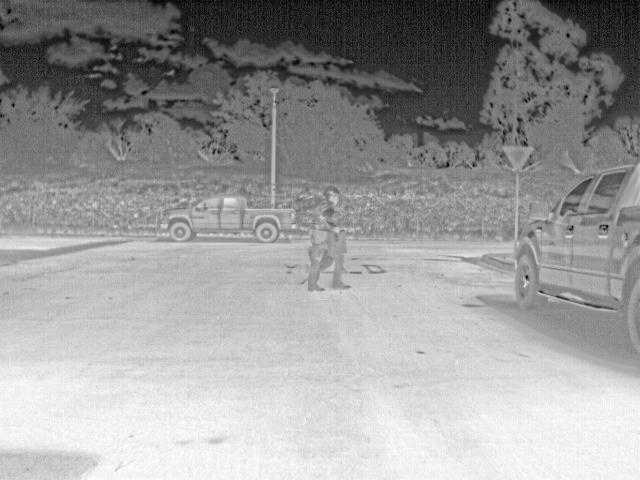car: (515, 165, 638, 334), (161, 193, 298, 243)
person: (307, 186, 347, 292)
